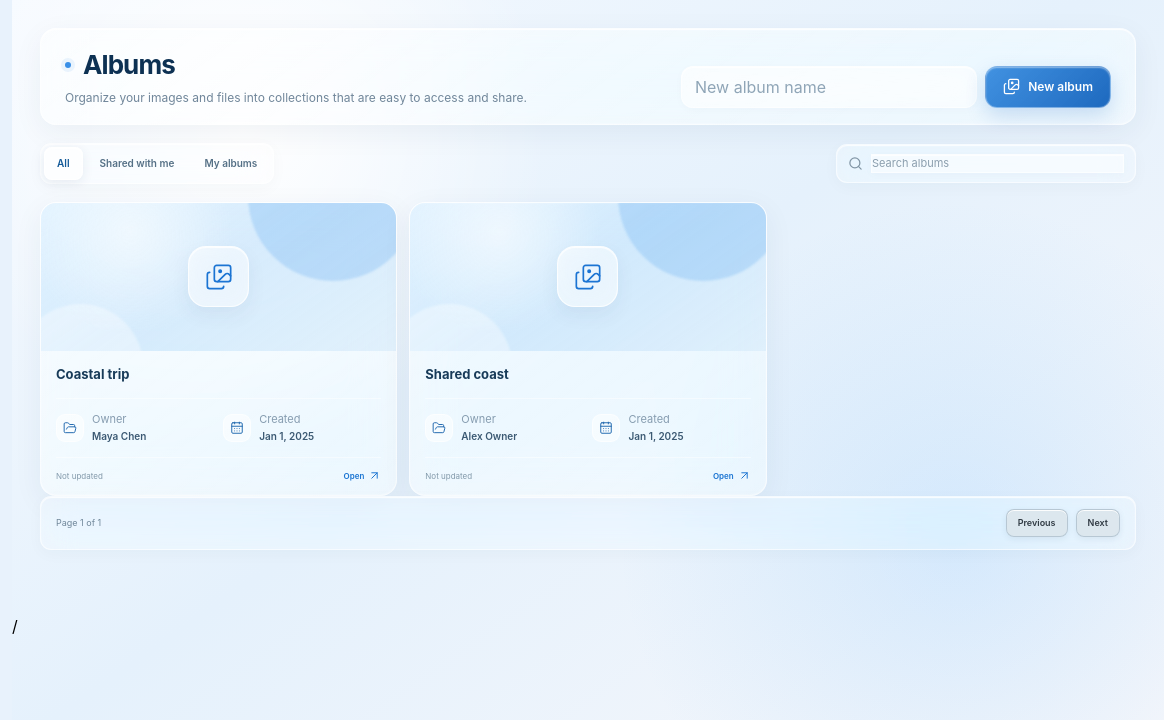
Test case: page workflows › falls back to accessible albums when the deployed API lacks the shared-albums route
Expected: the heading "Coastal trip" is shown, [56,366,129,382]
Click the button "Shared with me" at [137, 164], box [86,147,187,180]
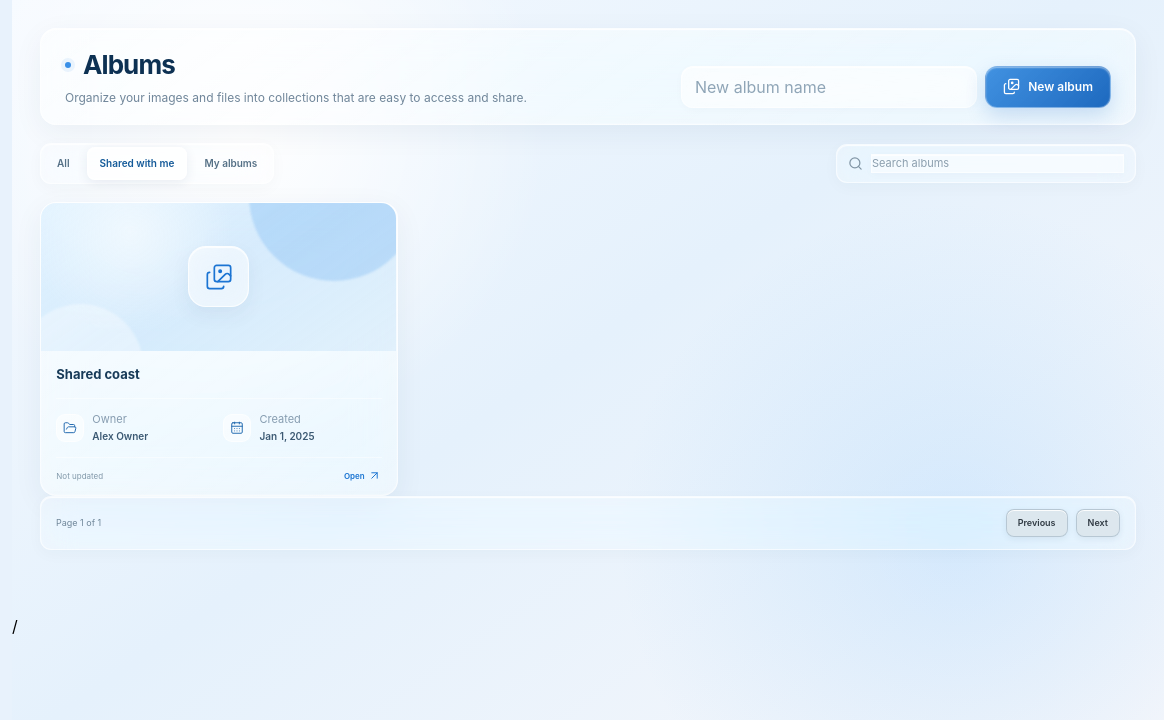
Expected: the heading "Shared coast" is shown, [56,366,140,382]
Result: the button "Coastal trip" is gone
